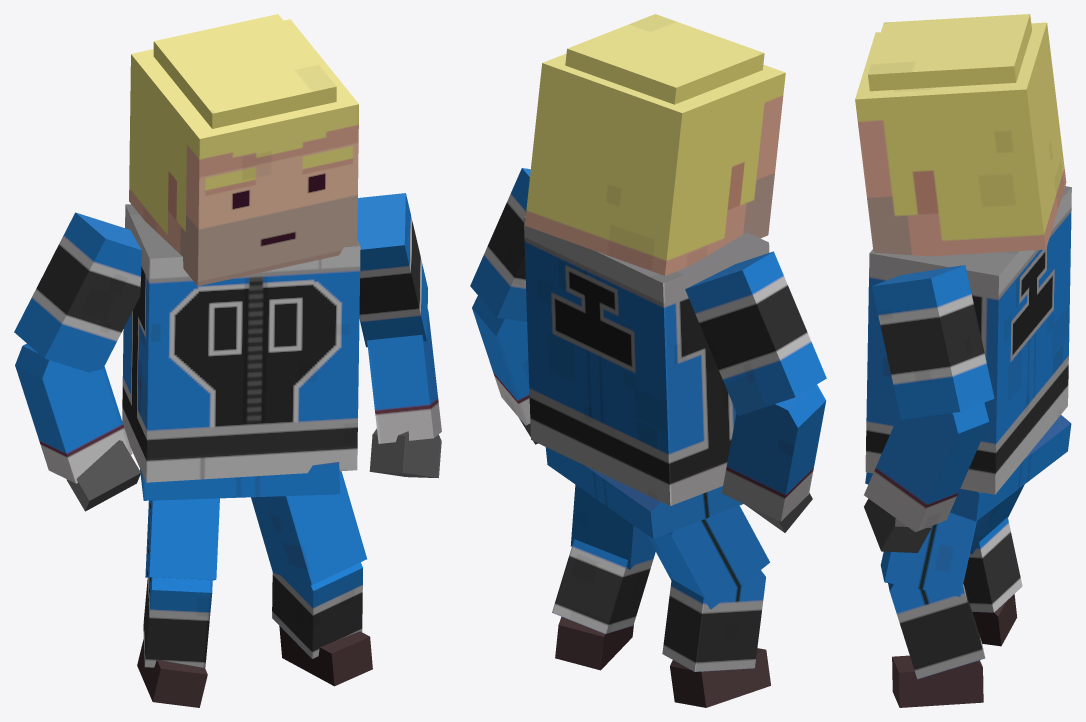
The model's file is Character_Pose_05.fbx.
3 views of the same model, side by side, from view 1: azimuth 30°, elevation 25°; view 2: azimuth 150°, elevation 25°; view 3: azimuth 270°, elevation 25° (orthographic).
Parts seen in each view (by area): view 1: Character_Pose_05; view 2: Character_Pose_05; view 3: Character_Pose_05.
Part boxes in pixels (left/top/right/bottom): Character_Pose_05: left=14, top=14, right=441, bottom=707; Character_Pose_05: left=470, top=14, right=826, bottom=707; Character_Pose_05: left=855, top=14, right=1071, bottom=707.
Size of the model in its own units: 175 by 285 by 88.7.
1 material, 1 textured.
